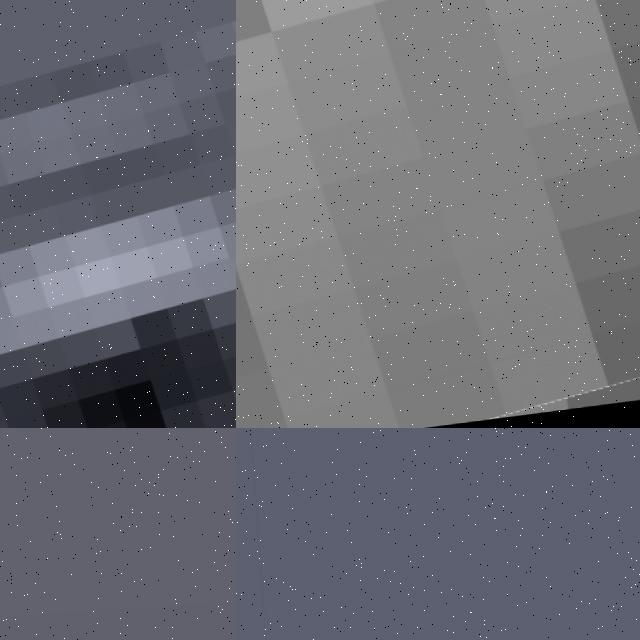0: (0, 0, 236, 428)
drone: (236, 0, 640, 428)
